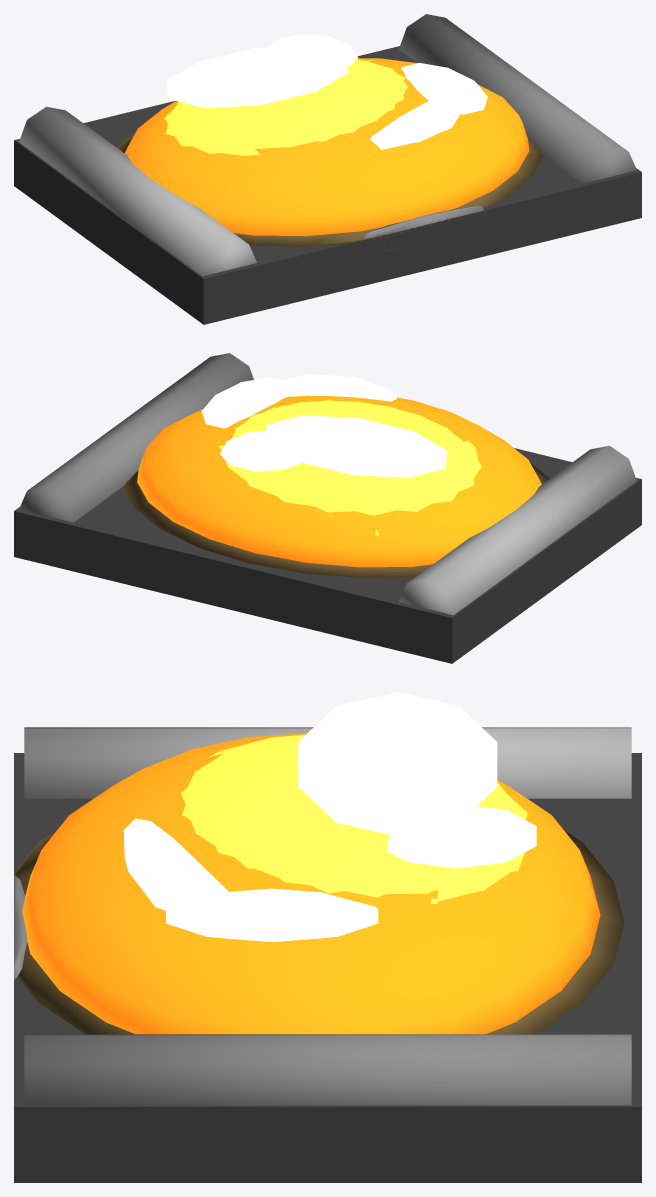
The model's file is newshr-167.glb.
The picture shows the model from 3 angles, top to bottom: view 1: azimuth 30°, elevation 25°; view 2: azimuth 150°, elevation 25°; view 3: azimuth 270°, elevation 25°; orthographic projection. The views are drawn at different scales.
Visible parts, largest first — view 1: newshr-167; view 2: newshr-167; view 3: newshr-167.
Part boxes in pixels (box(x1,y1,x2,y2)): newshr-167: box(14, 14, 641, 324); newshr-167: box(14, 353, 641, 663); newshr-167: box(14, 692, 641, 1182).
Size of the model in its own units: 2 by 0.5615 by 1.5.
